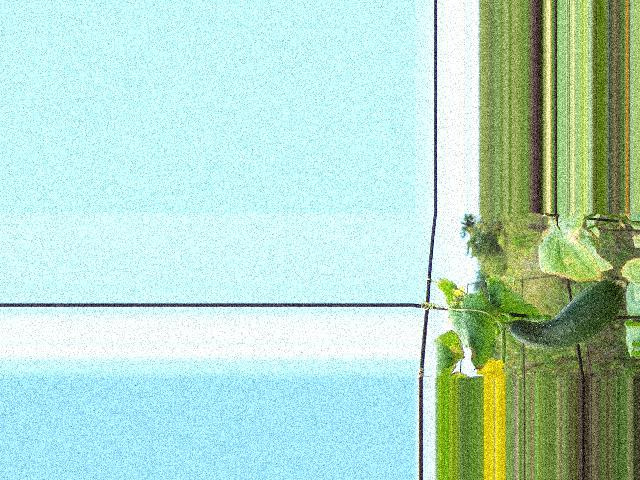cucumber: (508, 279, 623, 349)
